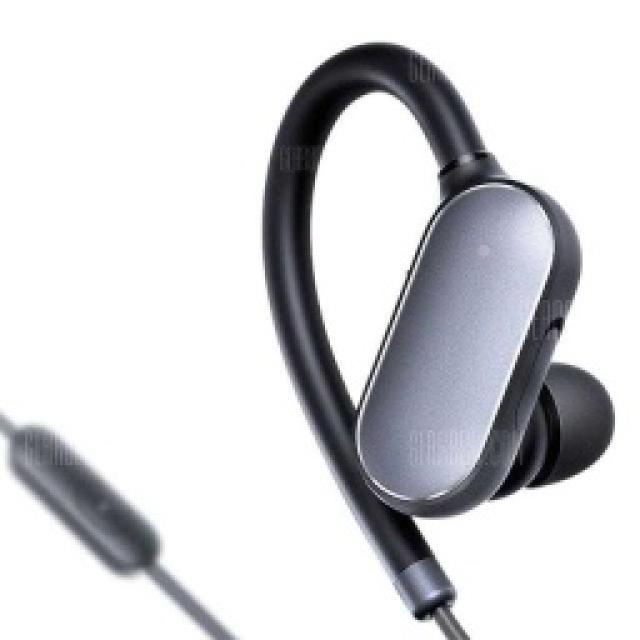headphones: (260, 38, 615, 520)
